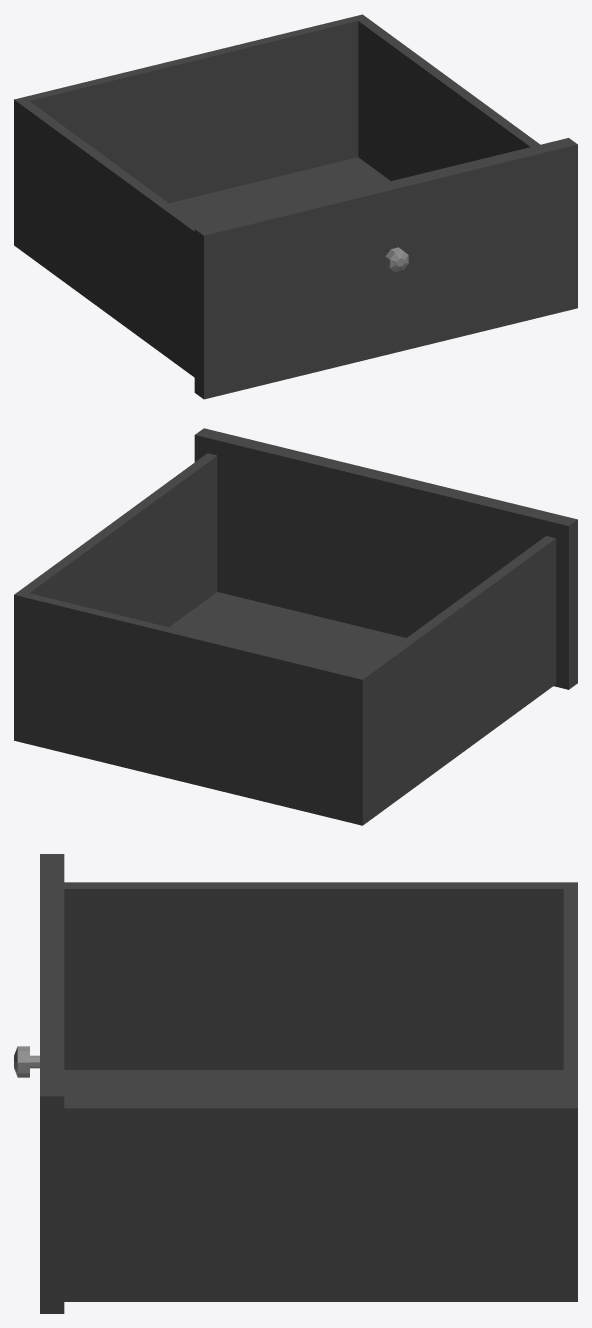
Rendered from Door3_C3_05.fbx.
3 renders of one model, top to bottom at view 1: azimuth 30°, elevation 25°; view 2: azimuth 150°, elevation 25°; view 3: azimuth 270°, elevation 25°, orthographic. The views are drawn at different scales.
Parts seen in each view (by area): view 1: Door3_C3_05; view 2: Door3_C3_05; view 3: Door3_C3_05.
Boxes of the visible parts, x1,y1,x2,y2 form: Door3_C3_05: (14,14,577,399); Door3_C3_05: (14,428,577,825); Door3_C3_05: (14,854,577,1313).
Size of the model in its own units: 59 by 24.68 by 58.03.
